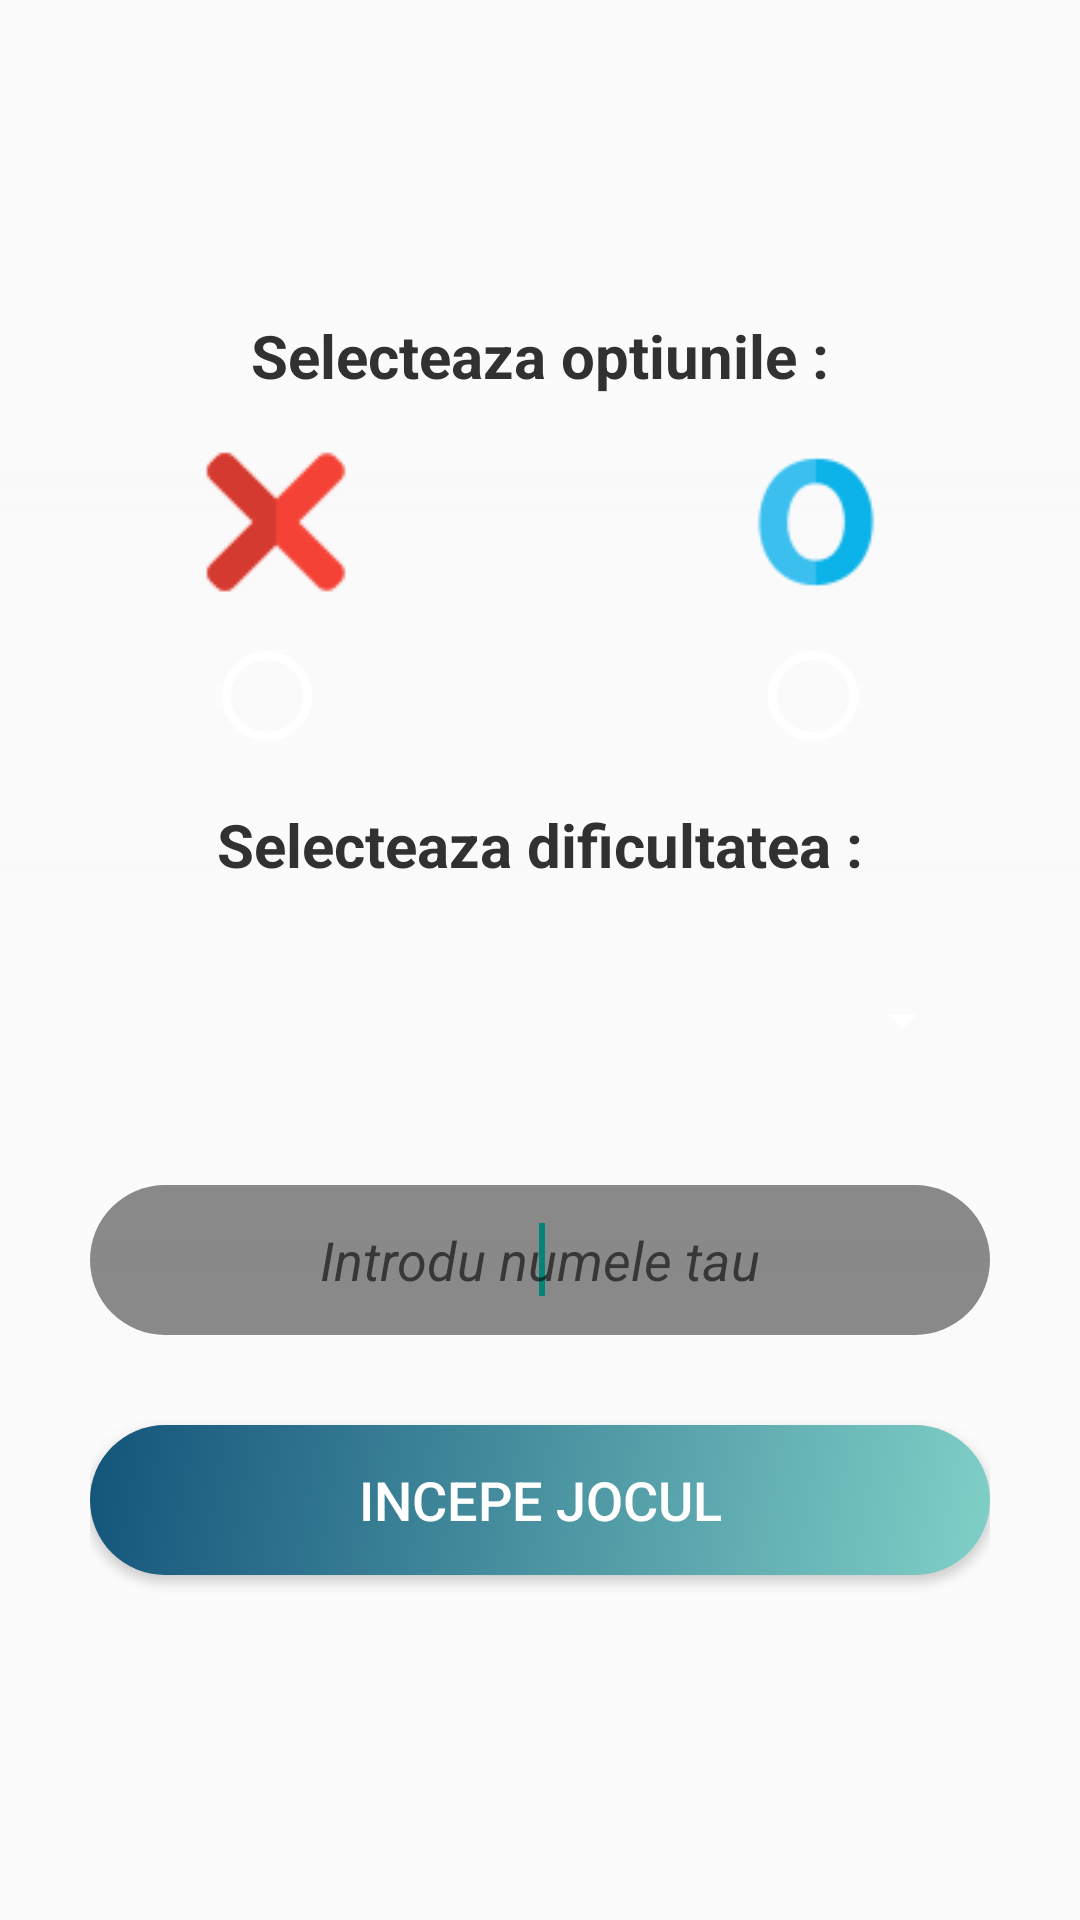

Icon click points for this 1080 × 1920 phone screenshot, format (x,y):
crossed: (276,522)
zero: (816,522)
